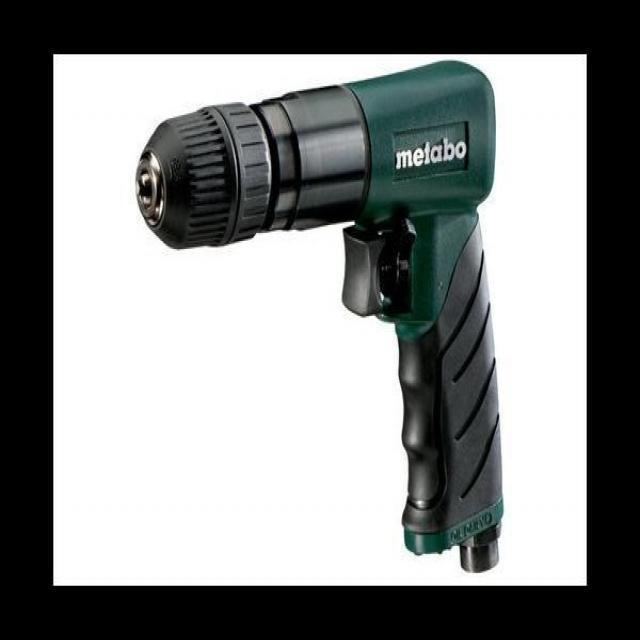drill: (135, 58, 505, 574)
